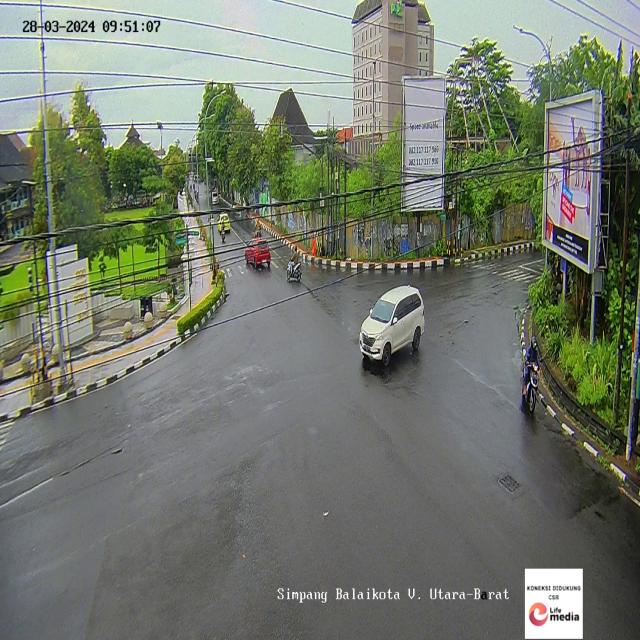car: (357, 284, 425, 371), (246, 236, 272, 272), (216, 211, 232, 235), (211, 188, 220, 205)
motorcycle: (520, 333, 542, 412), (287, 245, 301, 285), (220, 217, 228, 241), (255, 219, 263, 236)
